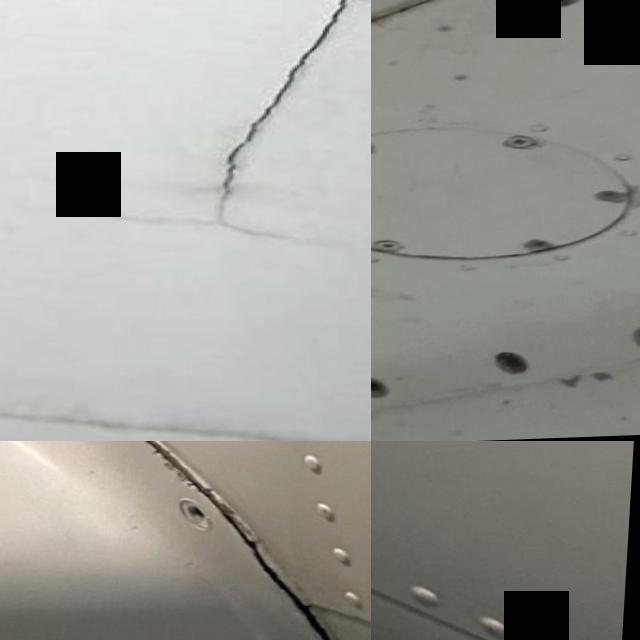Crack: (137, 0, 371, 272), (228, 472, 371, 640), (56, 441, 244, 524)
Missing_Fastener: (174, 504, 214, 544), (504, 352, 535, 377), (527, 0, 584, 12), (371, 375, 393, 400)
